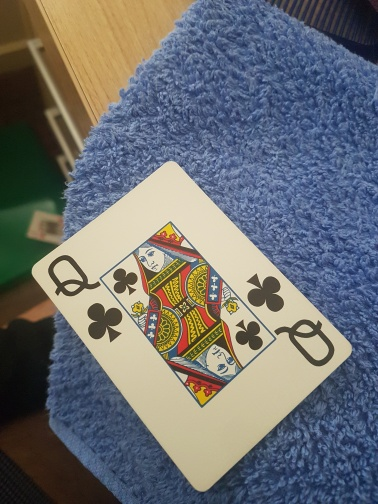queen: (32, 160, 354, 495)
